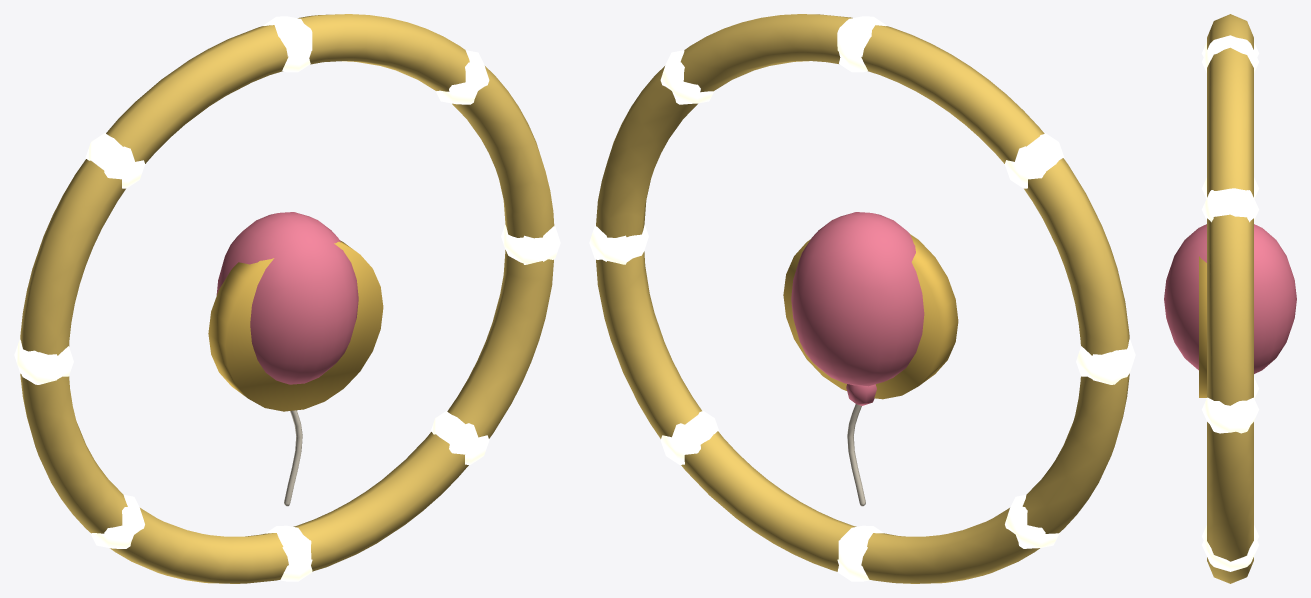
File: carreras_minijuegos.glb
3 views of the same model, side by side, from view 1: azimuth 30°, elevation 25°; view 2: azimuth 150°, elevation 25°; view 3: azimuth 270°, elevation 25° (orthographic). The views are drawn at different scales.
Parts seen in each view (by area): view 1: m_aro 0, m_globo0 0, m_aro 1, m_moneda 0, m_globo0 1; view 2: m_aro 0, m_globo0 0, m_aro 1, m_moneda 0, m_globo0 1; view 3: m_aro 0, m_globo0 0, m_aro 1, m_moneda 0.
Part boxes in pixels (bbox=[...]): m_aro 0: bbox=[20, 14, 554, 583]; m_globo0 0: bbox=[216, 212, 358, 384]; m_aro 1: bbox=[14, 16, 560, 581]; m_moneda 0: bbox=[208, 240, 383, 411]; m_globo0 1: bbox=[284, 410, 302, 506]; m_aro 0: bbox=[596, 14, 1129, 583]; m_globo0 0: bbox=[791, 212, 924, 386]; m_aro 1: bbox=[589, 16, 1135, 581]; m_moneda 0: bbox=[783, 233, 958, 399]; m_globo0 1: bbox=[847, 404, 865, 506]; m_aro 0: bbox=[1207, 14, 1253, 583]; m_globo0 0: bbox=[1164, 224, 1296, 373]; m_aro 1: bbox=[1201, 35, 1259, 571]; m_moneda 0: bbox=[1199, 256, 1206, 397].
Bounding box in the file's own units: 4.44 × 4.44 × 1.02.
